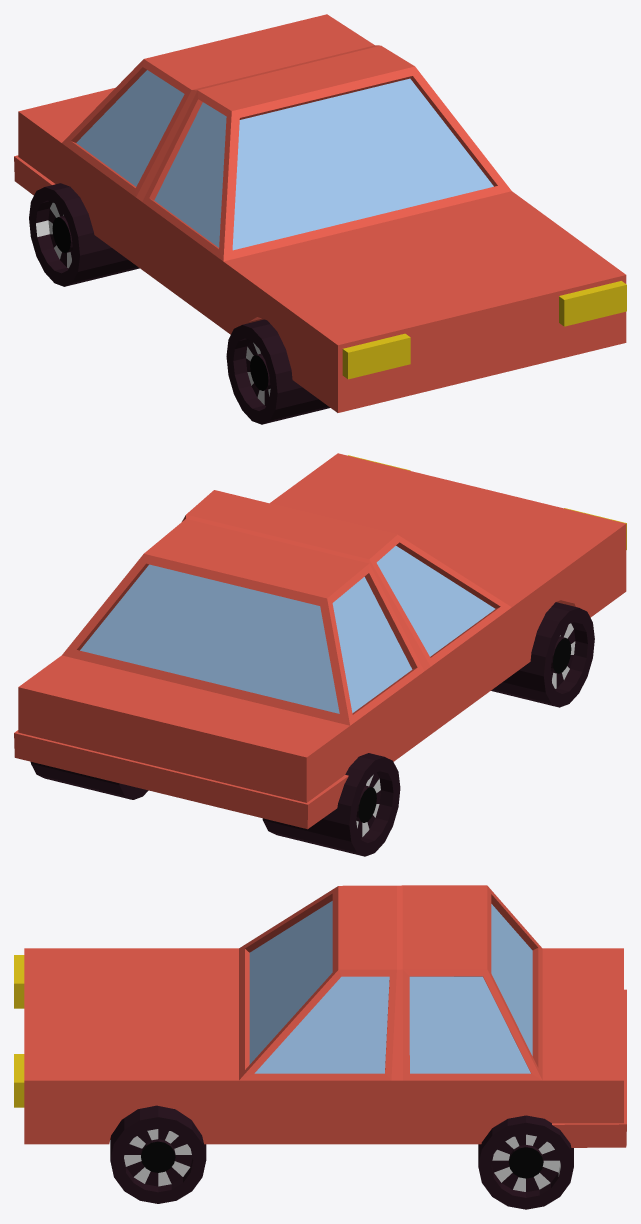
File: car.glb
3 views of the same model, one above another, from view 1: azimuth 30°, elevation 25°; view 2: azimuth 150°, elevation 25°; view 3: azimuth 270°, elevation 25° (orthographic). The views are drawn at different scales.
Visible parts, largest first — view 1: Cube, Cylinder.003, Cylinder.001, Cube.001; view 2: Cube, Cylinder.003, Cylinder.001; view 3: Cube, Cylinder.001, Cylinder.003, Cube.001.
Boxes of the visible parts, <box> form: Cube: <box>14,14,626,412</box>; Cylinder.003: <box>29,183,139,286</box>; Cylinder.001: <box>226,319,330,424</box>; Cube.001: <box>342,281,626,379</box>; Cube: <box>14,453,626,829</box>; Cylinder.003: <box>30,753,400,856</box>; Cylinder.001: <box>491,602,594,707</box>; Cube: <box>24,885,626,1147</box>; Cylinder.001: <box>110,1105,206,1203</box>; Cylinder.003: <box>478,1115,573,1209</box>; Cube.001: <box>14,955,24,1107</box>.
Size of the model in its own units: 3.62 by 2.44 by 6.39.
